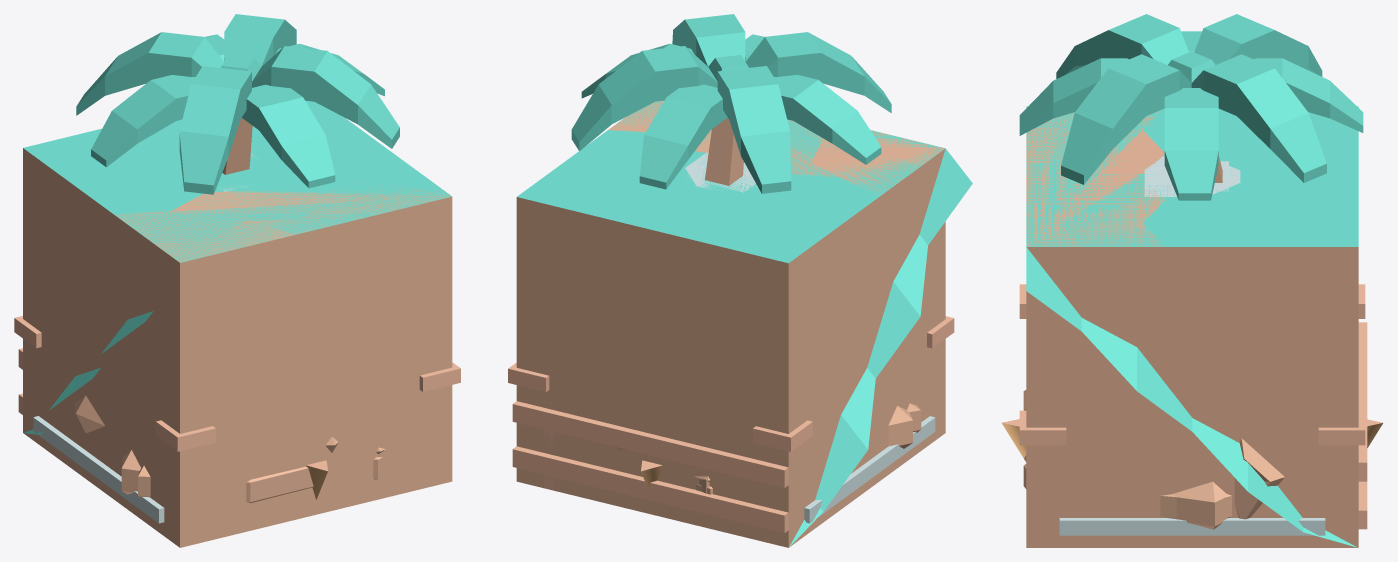
File: props-canyon.glb
3 renders of one model, left to right at view 1: azimuth 30°, elevation 25°; view 2: azimuth 150°, elevation 25°; view 3: azimuth 270°, elevation 25°, orthographic. The views are drawn at different scales.
Parts seen in each view (by area): view 1: cliff_block_rock_0, cliff_blockSlope_rock_0, cliff_blockHalf_rock_0, tree_palmDetailedTall_1, cliff_cornerLarge_rock_0, bridge_wood_0, tree_palmDetailedTall_2, cliff_large_rock_0, tree_palmTall_0, rock_largeC_0, cliff_rock_0, tree_palmDetailedTall_0 (+3 smaller); view 2: cliff_block_rock_0, cliff_blockHalf_rock_0, tree_palmDetailedTall_1, fence_planks_0, cliff_cornerLarge_rock_0, bridge_wood_0, tree_palmTall_0, cliff_blockSlope_rock_0, cliff_large_rock_0, tree_palmDetailedTall_2, cliff_rock_0, rock_largeE_0 (+1 smaller); view 3: cliff_block_rock_0, cliff_blockHalf_rock_0, tree_palmDetailedTall_1, cliff_large_rock_0, bridge_wood_0, tree_palmTall_0, cliff_blockSlope_rock_0, cliff_rock_0, cliff_half_rock_0, rock_largeE_0, fence_planks_0, rock_largeD_0 (+5 smaller).
Boxes of the visible parts, x1,y1,x2,y2 form: cliff_block_rock_0: [23, 100, 452, 547]; cliff_blockSlope_rock_0: [23, 196, 452, 544]; cliff_blockHalf_rock_0: [23, 291, 452, 546]; tree_palmDetailedTall_1: [76, 14, 399, 194]; cliff_cornerLarge_rock_0: [114, 210, 293, 547]; bridge_wood_0: [14, 316, 460, 547]; tree_palmDetailedTall_2: [91, 71, 384, 188]; cliff_large_rock_0: [115, 183, 449, 261]; tree_palmTall_0: [91, 34, 363, 181]; rock_largeC_0: [138, 466, 313, 503]; cliff_rock_0: [155, 195, 451, 536]; tree_palmDetailedTall_0: [226, 118, 252, 173]; cliff_block_rock_0: [516, 100, 945, 546]; cliff_blockHalf_rock_0: [516, 291, 945, 547]; tree_palmDetailedTall_1: [571, 14, 891, 193]; fence_planks_0: [512, 399, 788, 543]; cliff_cornerLarge_rock_0: [811, 131, 945, 476]; bridge_wood_0: [508, 316, 954, 547]; tree_palmTall_0: [581, 34, 880, 189]; cliff_blockSlope_rock_0: [789, 148, 972, 546]; cliff_large_rock_0: [608, 101, 943, 479]; tree_palmDetailedTall_2: [666, 97, 881, 188]; cliff_rock_0: [788, 120, 945, 433]; rock_largeE_0: [888, 406, 912, 448]; cliff_block_rock_0: [1026, 106, 1358, 547]; cliff_blockHalf_rock_0: [1026, 397, 1358, 547]; tree_palmDetailedTall_1: [1056, 14, 1326, 184]; cliff_large_rock_0: [1026, 111, 1165, 547]; bridge_wood_0: [1019, 284, 1365, 547]; tree_palmTall_0: [1019, 31, 1363, 200]; cliff_blockSlope_rock_0: [1026, 247, 1357, 547]; cliff_rock_0: [1026, 113, 1082, 547]; cliff_half_rock_0: [1026, 397, 1163, 547]; rock_largeE_0: [1167, 481, 1227, 529]; fence_planks_0: [1358, 322, 1367, 529]; rock_largeD_0: [1024, 408, 1284, 519].
Bounding box in the file's own units: 7.2 × 8.54 × 6.9.
